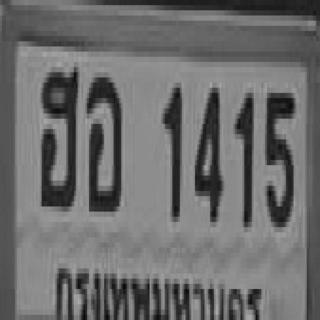A43: (85, 70, 122, 216)
A44: (40, 61, 79, 212)
N01: (233, 85, 254, 228), (161, 80, 182, 222)
N04: (193, 82, 223, 223)
N05: (263, 85, 296, 231)
